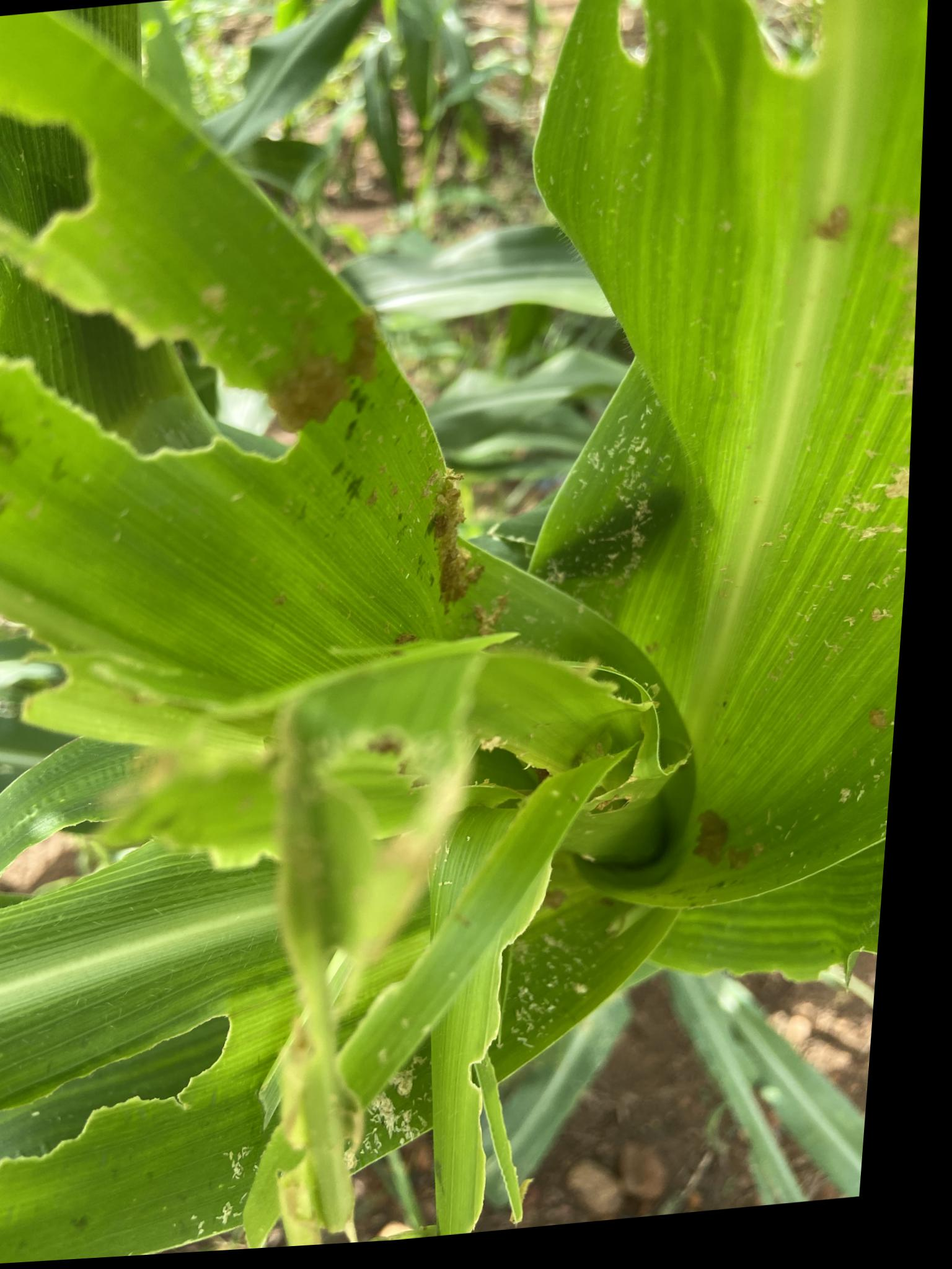early_to_moderate: (482, 797, 793, 1083), (553, 371, 761, 666), (378, 452, 580, 639), (794, 406, 925, 596), (275, 327, 425, 467), (192, 1159, 375, 1256), (338, 1072, 452, 1180)
severe: (182, 595, 743, 1063), (0, 108, 268, 503), (0, 952, 307, 1233), (403, 981, 607, 1246), (0, 549, 196, 755), (694, 0, 892, 139), (534, 0, 674, 107), (829, 918, 896, 996)
